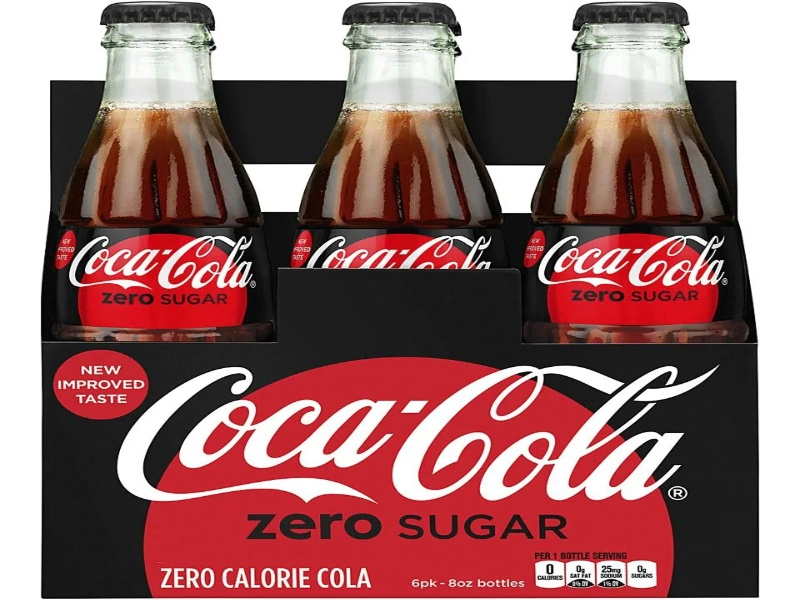Glass bottle: (282, 1, 532, 342), (525, 5, 751, 356), (45, 1, 287, 321)
